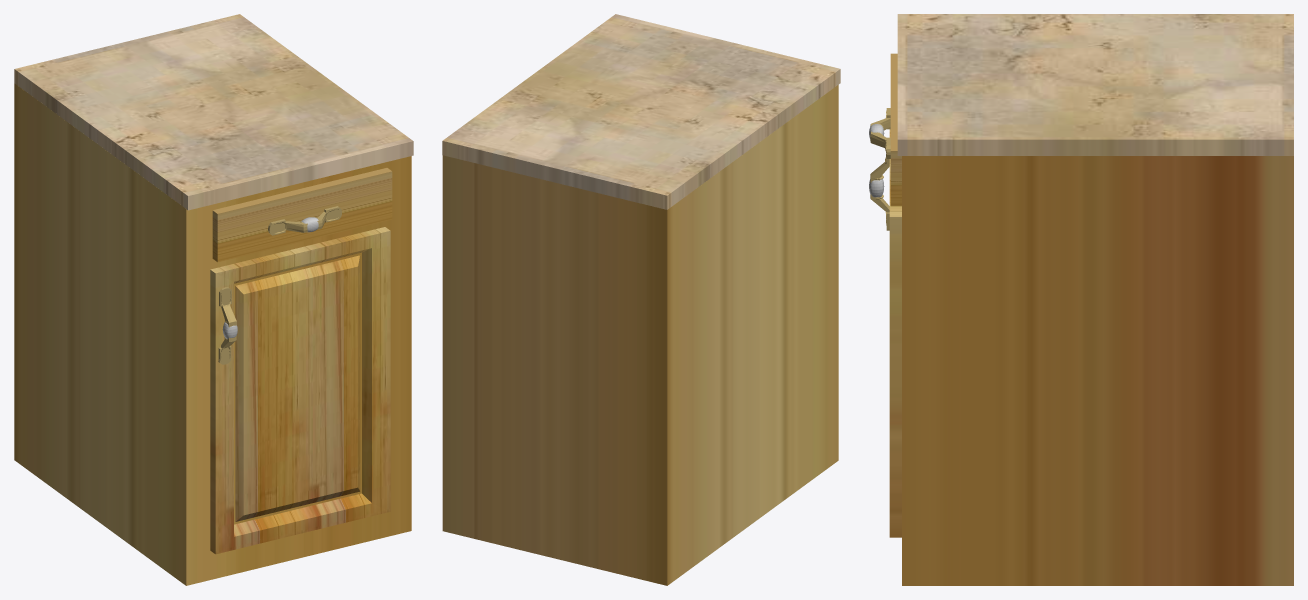
Rendered from 1DoorLowerCabinet.obj.
3 renders of one model, left to right at view 1: azimuth 30°, elevation 25°; view 2: azimuth 150°, elevation 25°; view 3: azimuth 270°, elevation 25°, orthographic. The views are drawn at different scales.
Visible parts, largest first — view 1: PolyMesh_4, PolyMesh_1_3, PolyMesh_6, Cube_3_3, verthandle_7, verthandle_3; view 2: PolyMesh_4, PolyMesh_6; view 3: PolyMesh_4, PolyMesh_6, PolyMesh_1_3, Cube_3_3.
Part boxes in pixels (left/top/right/bottom): PolyMesh_4: left=14, top=83, right=411, bottom=585; PolyMesh_1_3: left=210, top=227, right=390, bottom=554; PolyMesh_6: left=14, top=14, right=413, bottom=210; Cube_3_3: left=212, top=168, right=392, bottom=262; verthandle_7: left=268, top=206, right=341, bottom=235; verthandle_3: left=218, top=287, right=236, bottom=364; PolyMesh_4: left=442, top=85, right=838, bottom=585; PolyMesh_6: left=442, top=14, right=840, bottom=209; PolyMesh_4: left=902, top=156, right=1293, bottom=585; PolyMesh_6: left=897, top=14, right=1293, bottom=155; PolyMesh_1_3: left=889, top=129, right=901, bottom=537; Cube_3_3: left=890, top=53, right=901, bottom=206.
Size of the model in its own units: 3.94 by 6.54 by 5.64.
